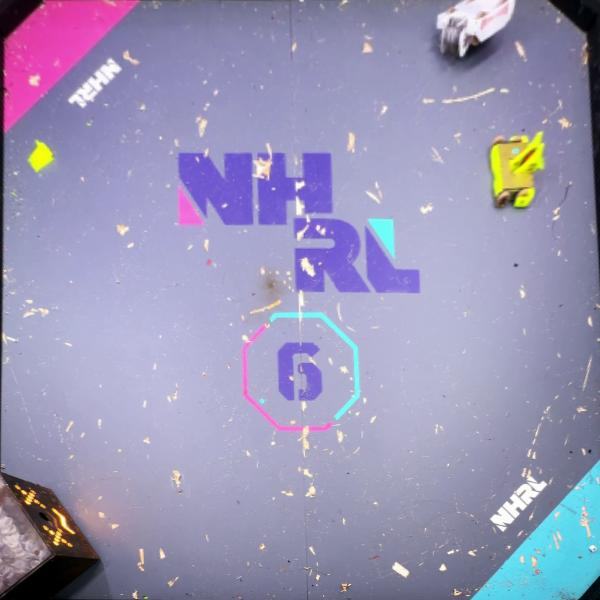housebot: (0, 472, 101, 600)
robot: (434, 0, 514, 56), (491, 130, 546, 209)
